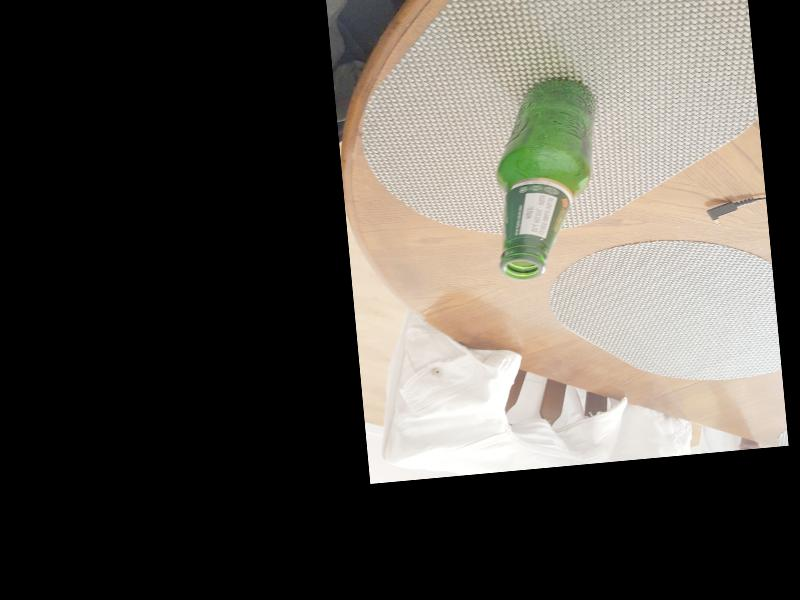Beer: (491, 75, 611, 278)
